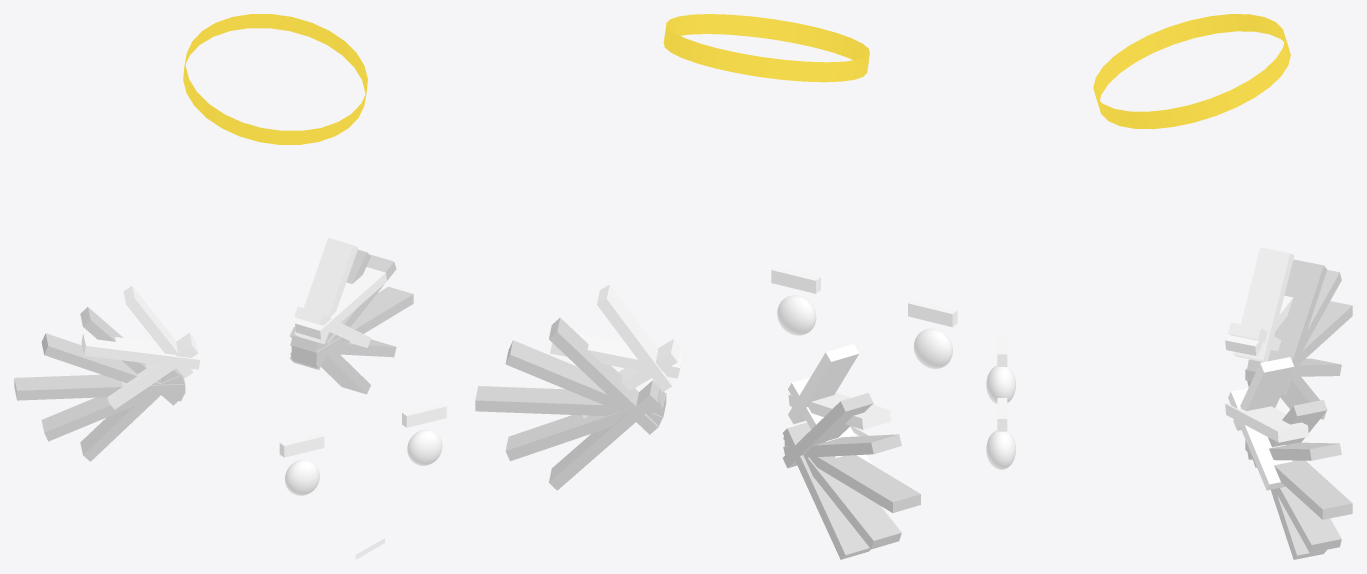
The model's file is trait-oneoff-halo.glb.
3 renders of one model, left to right at view 1: azimuth 30°, elevation 25°; view 2: azimuth 150°, elevation 25°; view 3: azimuth 270°, elevation 25°, orthographic. The views are drawn at different scales.
Visible parts, largest first — view 1: trait_oneoff_halo, trait_oneoff_prim_L_2, trait_oneoff_sec_R_0, trait_oneoff_sec_L_1, trait_oneoff_prim_L_3, trait_oneoff_prim_R_2, trait_oneoff_prim_L_1, trait_oneoff_sec_R_1, trait_oneoff_prim_L_4, trait_oneoff_sec_L_2, trait_oneoff_sec_L_0, trait_oneoff_prim_R_4 (+9 smaller); view 2: trait_oneoff_halo, trait_oneoff_prim_R_2, trait_oneoff_prim_L_2, trait_oneoff_prim_L_3, trait_oneoff_prim_R_0, trait_oneoff_prim_R_1, trait_oneoff_prim_R_3, trait_oneoff_prim_L_4, trait_oneoff_prim_R_4, trait_oneoff_sec_R_0, trait_oneoff_sec_L_0, trait_oneoff_prim_L_0 (+9 smaller); view 3: trait_oneoff_halo, trait_oneoff_sec_L_0, trait_oneoff_prim_L_0, trait_oneoff_prim_R_2, trait_oneoff_prim_R_3, trait_oneoff_sec_R_0, trait_oneoff_sec_R_1, trait_oneoff_sec_R_2, trait_oneoff_prim_L_2, trait_oneoff_prim_R_1, trait_oneoff_prim_R_0, trait_oneoff_dot_R (+7 smaller).
Part boxes in pixels (bbox=[...]): trait_oneoff_halo: bbox=[183, 14, 367, 144]; trait_oneoff_prim_L_2: bbox=[14, 374, 185, 400]; trait_oneoff_sec_R_0: bbox=[294, 238, 358, 344]; trait_oneoff_sec_L_1: bbox=[81, 333, 200, 369]; trait_oneoff_prim_L_3: bbox=[41, 371, 184, 441]; trait_oneoff_prim_R_2: bbox=[291, 286, 413, 362]; trait_oneoff_prim_L_1: bbox=[41, 333, 183, 401]; trait_oneoff_sec_R_1: bbox=[295, 267, 386, 339]; trait_oneoff_prim_L_4: bbox=[80, 368, 179, 461]; trait_oneoff_sec_L_2: bbox=[107, 333, 198, 409]; trait_oneoff_sec_L_0: bbox=[123, 286, 193, 378]; trait_oneoff_prim_R_4: bbox=[290, 327, 370, 394]; trait_oneoff_halo: bbox=[663, 14, 869, 82]; trait_oneoff_prim_R_2: bbox=[475, 386, 666, 417]; trait_oneoff_prim_L_2: bbox=[784, 441, 920, 512]; trait_oneoff_prim_L_3: bbox=[783, 437, 901, 549]; trait_oneoff_prim_R_0: bbox=[549, 317, 658, 434]; trait_oneoff_prim_R_1: bbox=[505, 340, 662, 426]; trait_oneoff_prim_R_3: bbox=[505, 388, 665, 461]; trait_oneoff_prim_L_4: bbox=[782, 422, 870, 559]; trait_oneoff_prim_R_4: bbox=[549, 380, 659, 490]; trait_oneoff_sec_R_0: bbox=[597, 284, 673, 391]; trait_oneoff_sec_L_0: bbox=[788, 344, 859, 424]; trait_oneoff_prim_L_0: bbox=[782, 393, 873, 468]; trait_oneoff_halo: bbox=[1093, 14, 1290, 129]; trait_oneoff_sec_L_0: bbox=[1233, 247, 1294, 361]; trait_oneoff_prim_L_0: bbox=[1269, 259, 1326, 396]; trait_oneoff_prim_R_2: bbox=[1245, 440, 1352, 519]; trait_oneoff_prim_R_3: bbox=[1274, 486, 1341, 552]; trait_oneoff_sec_R_0: bbox=[1233, 357, 1294, 430]; trait_oneoff_sec_R_1: bbox=[1225, 403, 1308, 442]; trait_oneoff_sec_R_2: bbox=[1228, 388, 1292, 490]; trait_oneoff_prim_L_2: bbox=[1245, 301, 1352, 381]; trait_oneoff_prim_R_1: bbox=[1247, 442, 1341, 460]; trait_oneoff_prim_R_0: bbox=[1253, 399, 1327, 467]; trait_oneoff_dot_R: bbox=[986, 430, 1016, 469].
Bounding box in the file's own units: 1.49 × 1.6 × 1.1.
